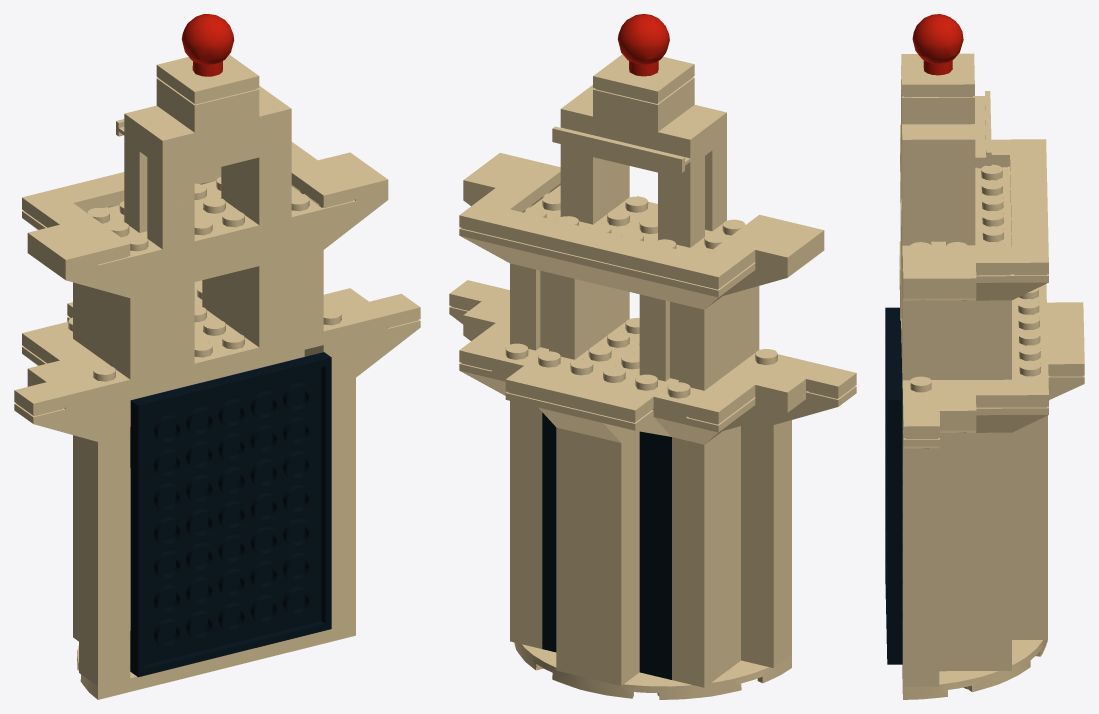
3 views of the same model, side by side, from view 1: azimuth 30°, elevation 25°; view 2: azimuth 150°, elevation 25°; view 3: azimuth 270°, elevation 25° (orthographic). The views are drawn at different scales.
Visible parts, largest first — view 1: 迎泽大桥积木冰箱贴; view 2: 迎泽大桥积木冰箱贴; view 3: 迎泽大桥积木冰箱贴.
Part boxes in pixels (x1,y1,x2,y2): 迎泽大桥积木冰箱贴: (14, 14, 420, 699); 迎泽大桥积木冰箱贴: (449, 14, 856, 699); 迎泽大桥积木冰箱贴: (885, 14, 1084, 699).
Bounding box in the file's own units: 240 × 376 × 109.
